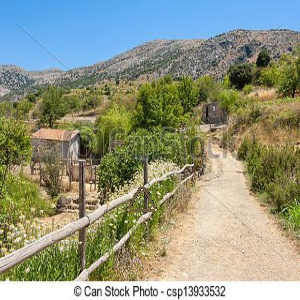triangle: (123, 183, 161, 215)
